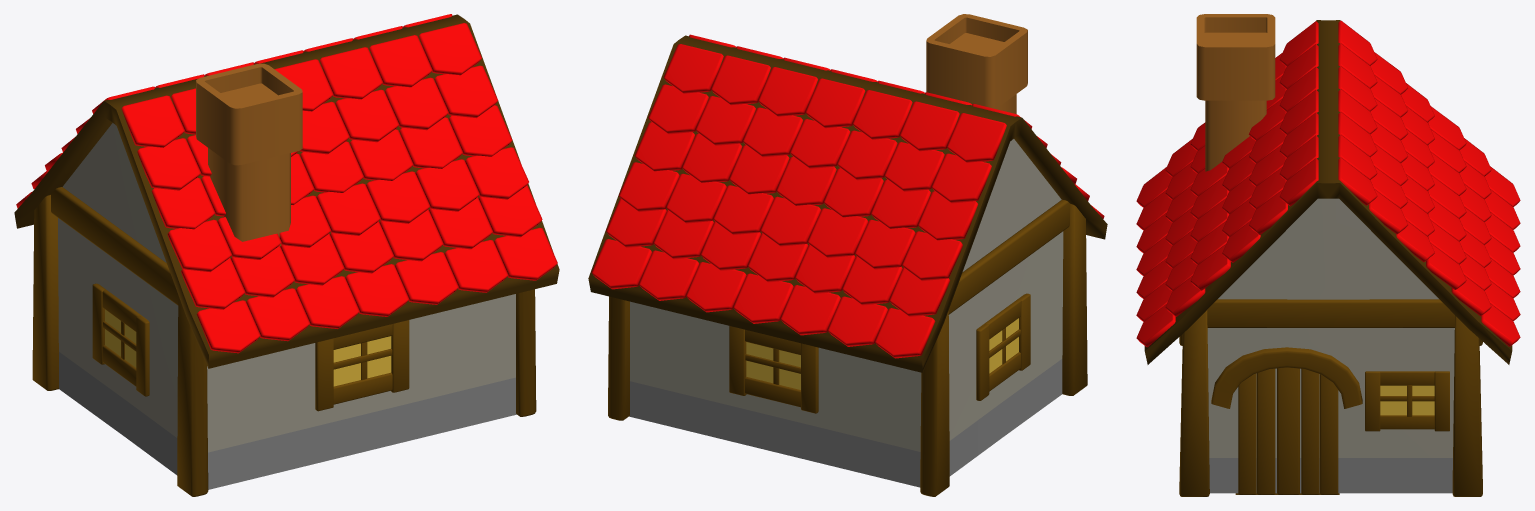
File: House_Level1_RedTeam.fbx
The picture shows the model from 3 angles, left to right: view 1: azimuth 30°, elevation 25°; view 2: azimuth 150°, elevation 25°; view 3: azimuth 270°, elevation 25°; orthographic projection. The views are drawn at different scales.
Visible parts, largest first — view 1: House_Level1_RedTeam; view 2: House_Level1_RedTeam; view 3: House_Level1_RedTeam.
Part boxes in pixels (x1,y1,x2,y2): House_Level1_RedTeam: [14, 14, 559, 496]; House_Level1_RedTeam: [588, 14, 1107, 496]; House_Level1_RedTeam: [1136, 14, 1520, 496].
Size of the model in its own units: 1122 by 1119 by 1116.
